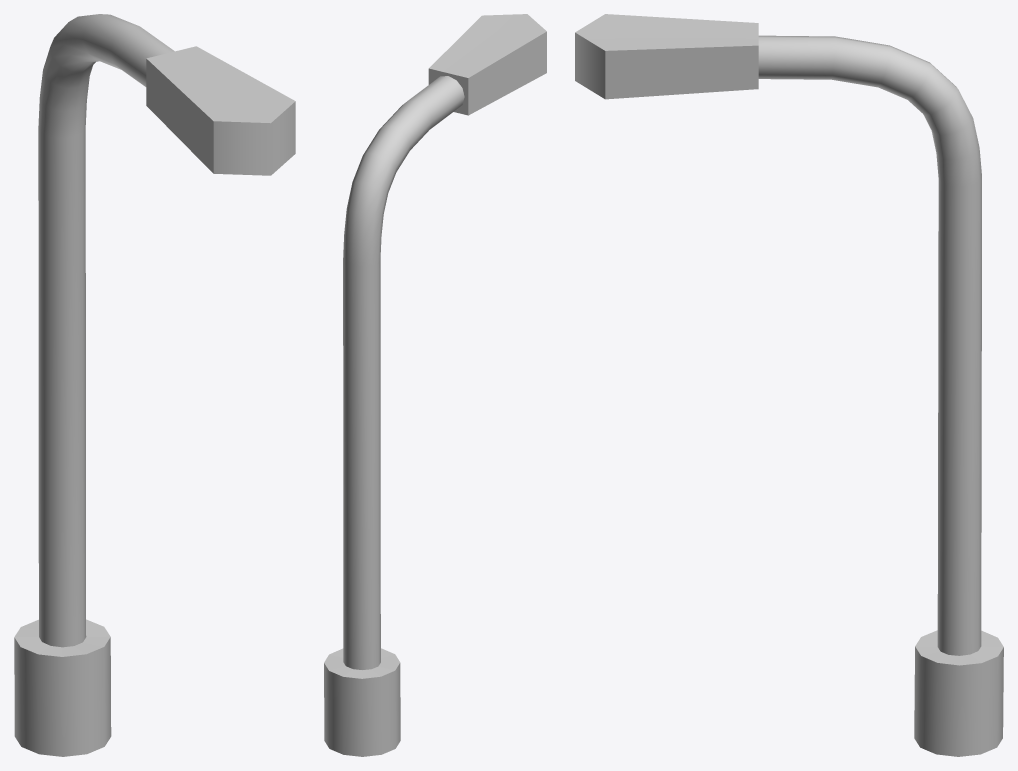
File: Street_light_1.FBX
3 views of the same model, side by side, from view 1: azimuth 30°, elevation 25°; view 2: azimuth 150°, elevation 25°; view 3: azimuth 270°, elevation 25° (orthographic). The views are drawn at different scales.
Visible parts, largest first — view 1: Street light 01; view 2: Street light 01; view 3: Street light 01.
Part boxes in pixels (x1,y1,x2,y2): Street light 01: (14,14,295,756); Street light 01: (324,14,546,756); Street light 01: (575,14,1003,756).
Size of the model in its own units: 0.3828 by 3.35 by 1.85.
1 material, 1 textured.
